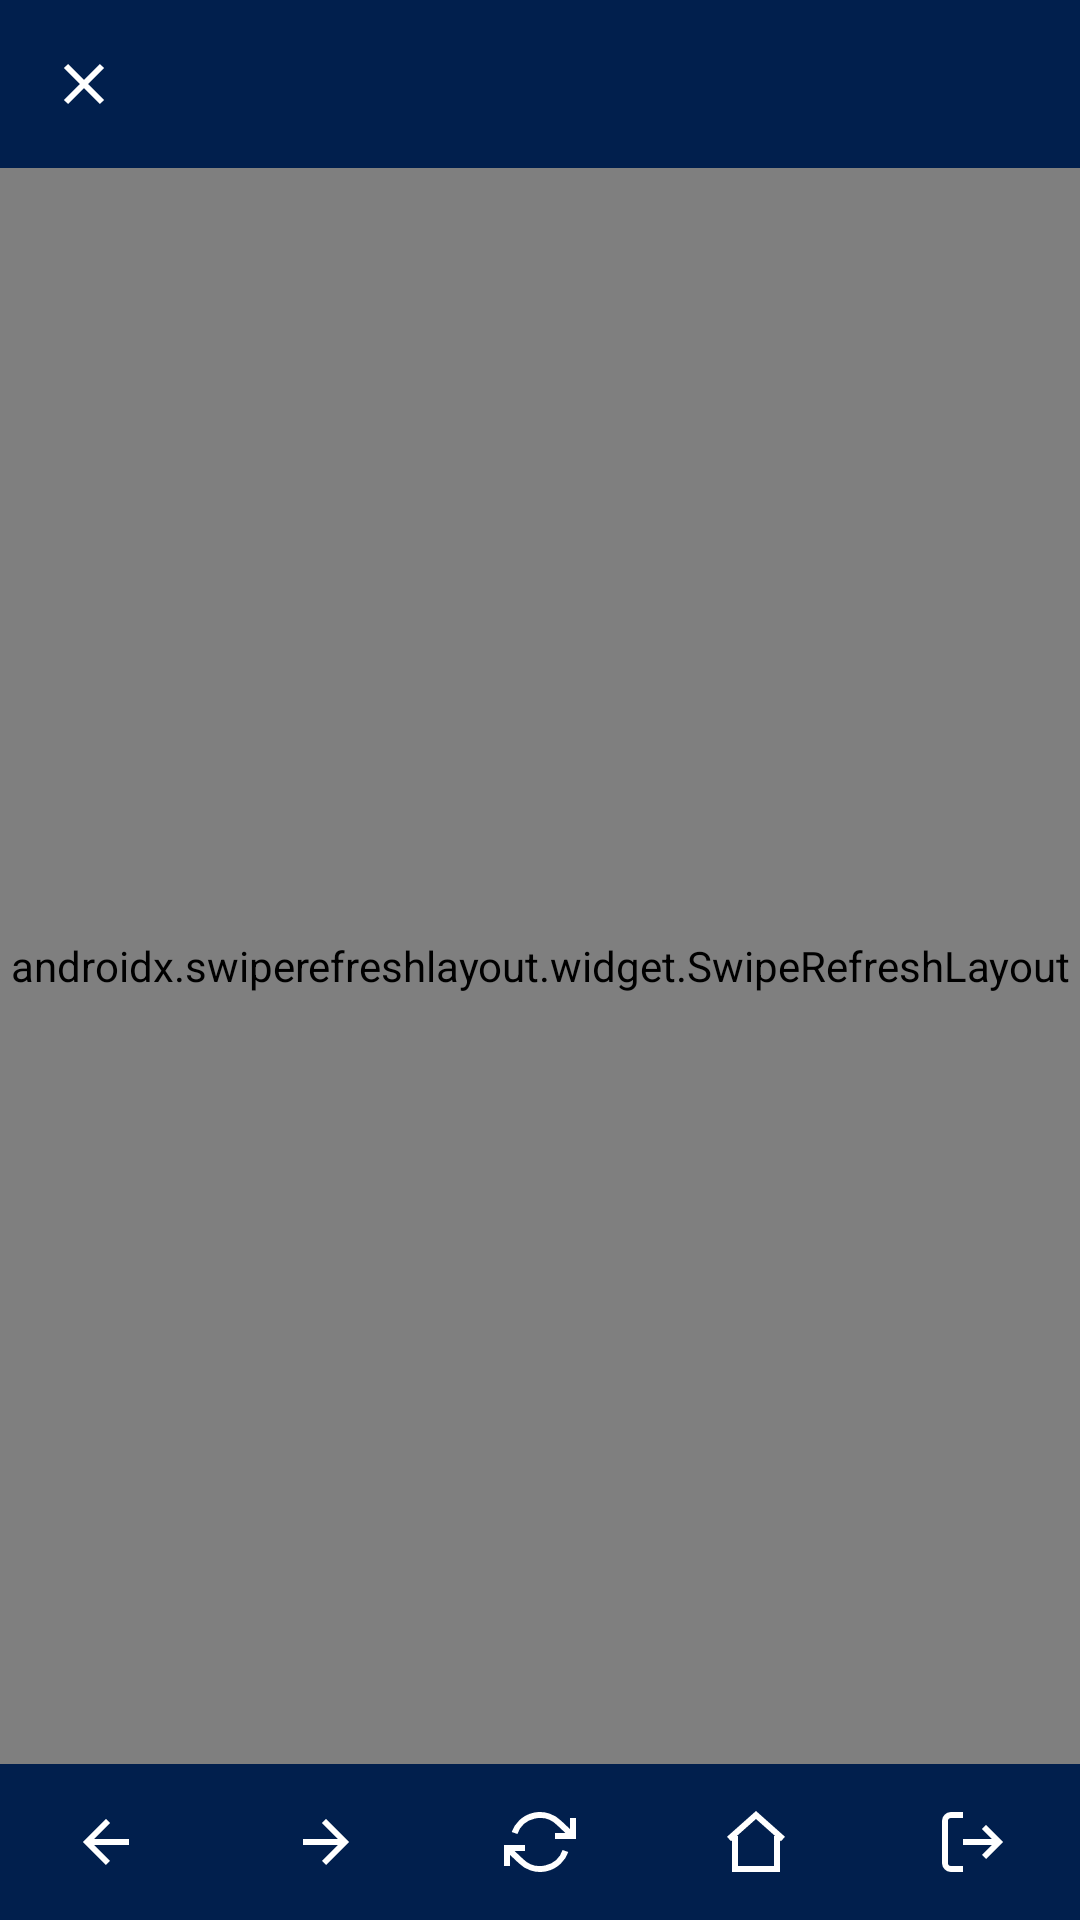

Locate icon controls on the screen. Image size 1080×1920, boxes as detection(x1, y1, x2, y2).
back: detection(83, 1819, 129, 1865)
home: detection(727, 1811, 785, 1872)
Réessayer: detection(504, 1812, 576, 1872)
